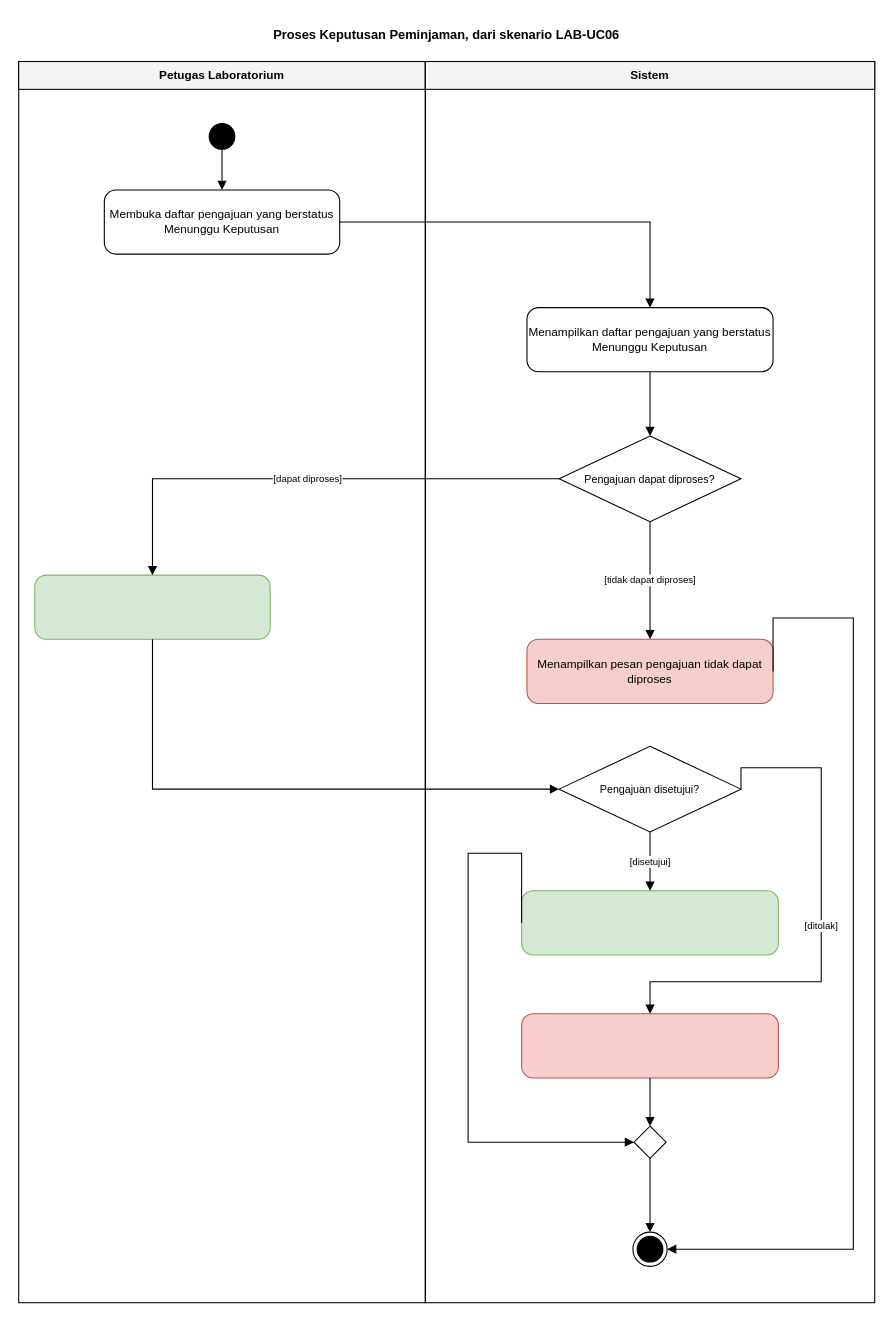
Some shapes in this 893 by 1321 pixel diagram are drawn without their labels. Here are the shapes that lost their labels. From the top down, the centre of each, then its label:
At (x=152, y=606): "Memilih pengajuan dan menetapkan persetujuan atau penolakan".
At (x=649, y=922): "Mengubah status pengajuan menjadi Disetujui dan menampilkan konfirmasi".
At (x=649, y=1045): "Mengubah status pengajuan menjadi Ditolak dan menampilkan konfirmasi penolakan".
